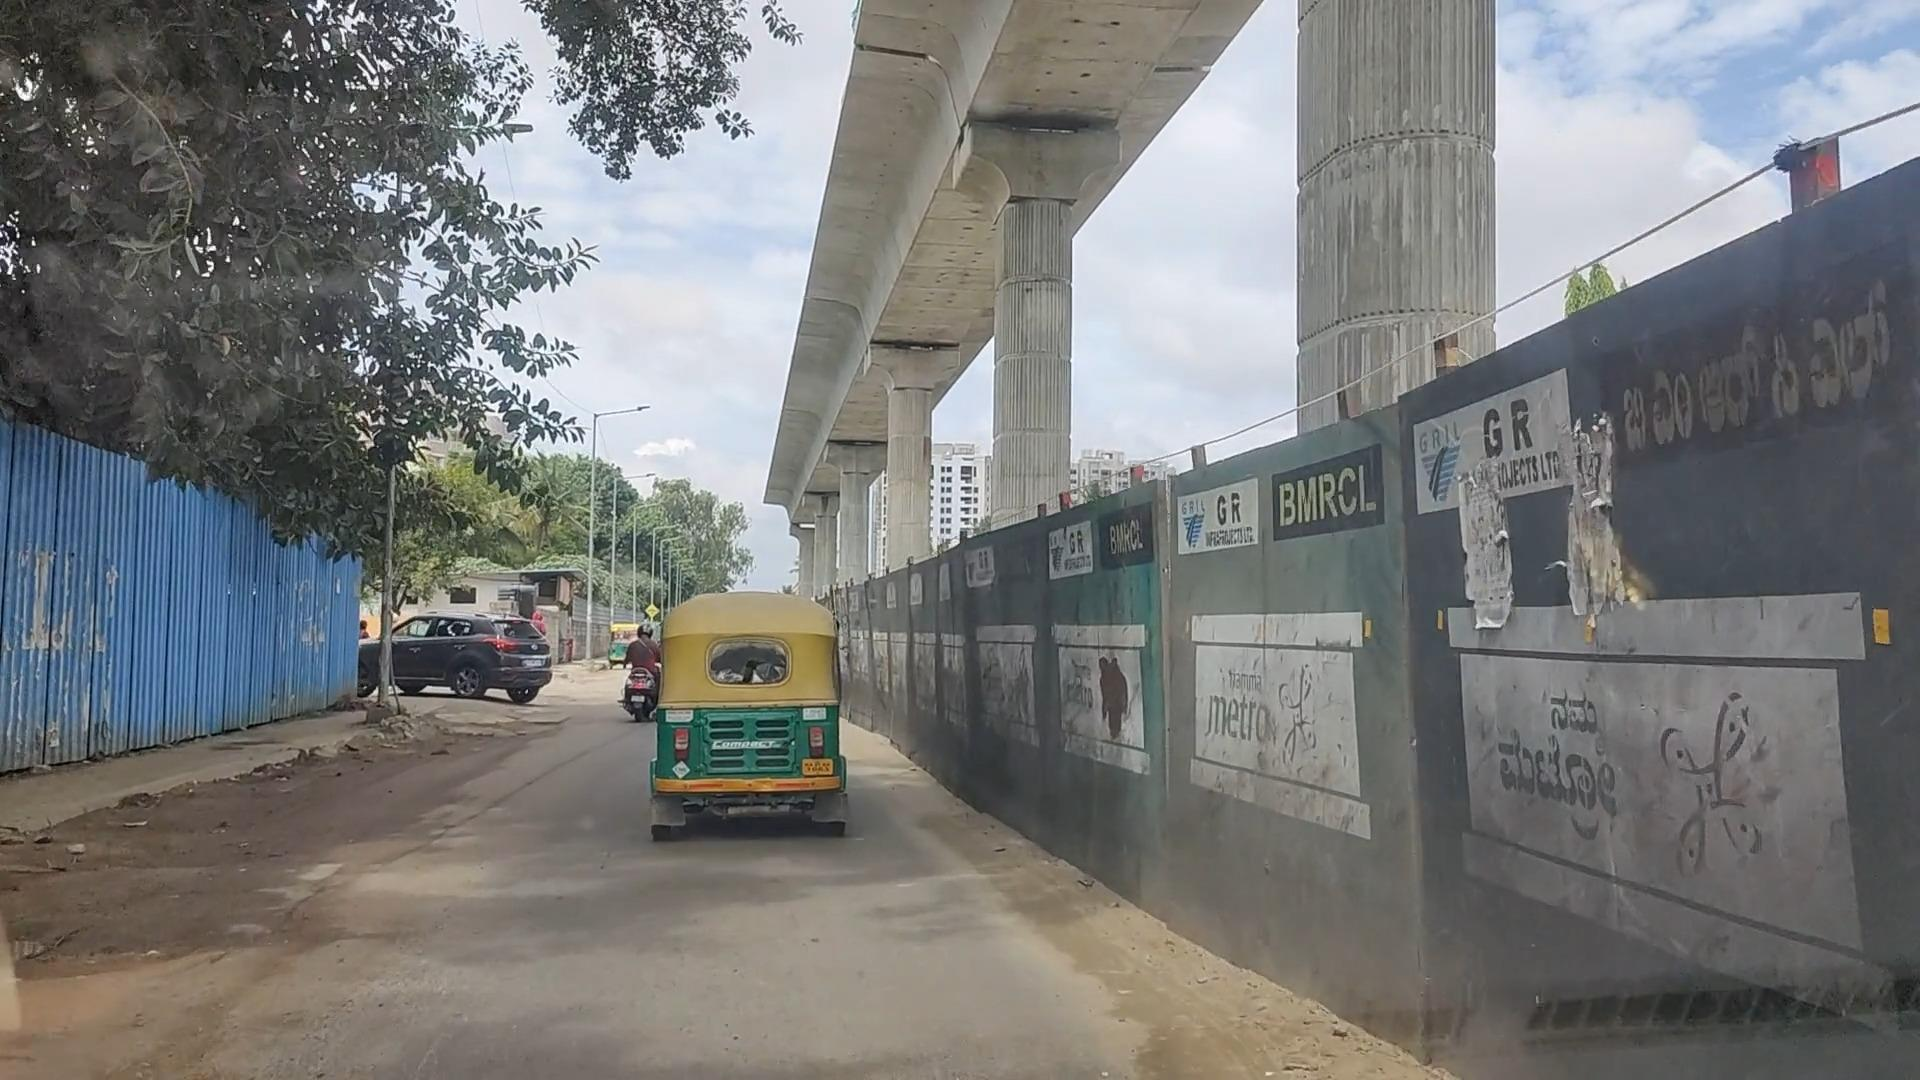LMV: (640, 587, 864, 841)
UnsurfacedRoad: (0, 833, 344, 1030)
